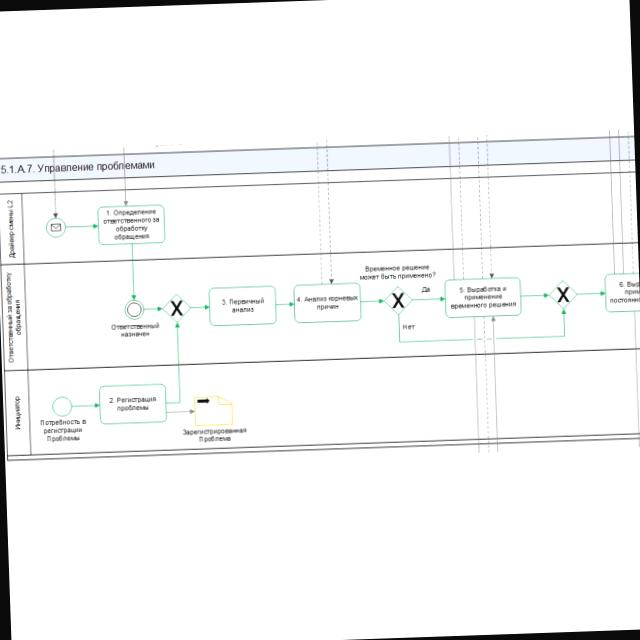arrow: (396, 308, 568, 346), (482, 130, 496, 279), (322, 136, 336, 284), (164, 322, 184, 406), (489, 318, 501, 452), (124, 243, 140, 300), (118, 142, 131, 204), (48, 144, 59, 216), (64, 220, 98, 232), (578, 287, 604, 299), (520, 290, 548, 300), (361, 296, 384, 306), (72, 401, 100, 408), (167, 409, 194, 415), (274, 300, 294, 308), (145, 305, 162, 313), (190, 304, 210, 310)
circle: (124, 299, 144, 320), (52, 397, 72, 416), (47, 219, 65, 237)
diamond: (545, 277, 578, 311), (385, 287, 411, 314), (164, 295, 190, 321)
rectangle: (444, 278, 521, 317), (208, 284, 276, 326), (100, 384, 167, 424), (98, 205, 165, 245), (294, 283, 361, 322)
text_region: (34, 154, 156, 176), (2, 268, 25, 364), (356, 260, 439, 282), (176, 424, 259, 444), (37, 415, 90, 444), (2, 197, 20, 260), (106, 322, 162, 342), (11, 388, 26, 435), (401, 320, 416, 333), (418, 284, 434, 294)
